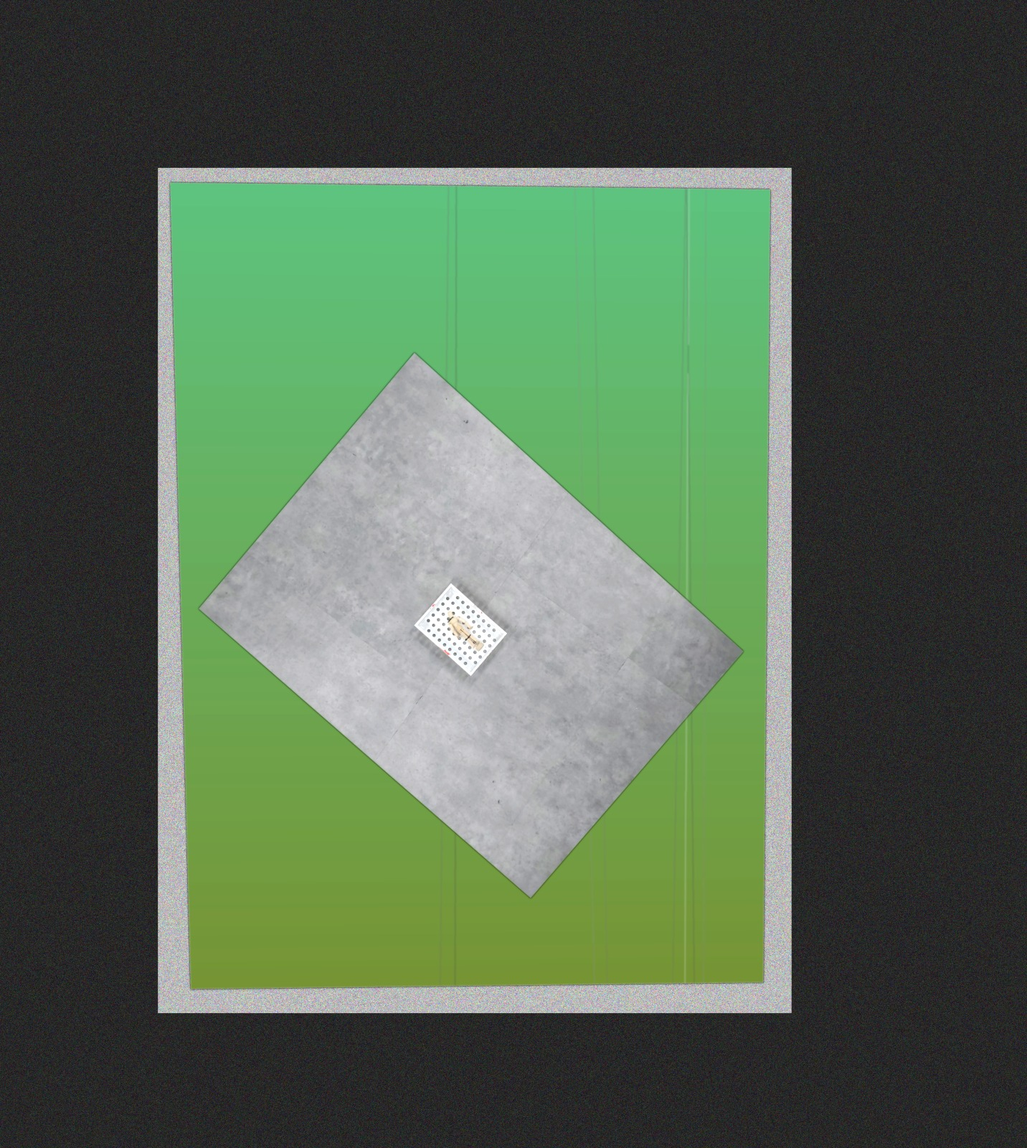basket: (411, 581, 510, 678)
mannequin: (442, 611, 486, 654)
